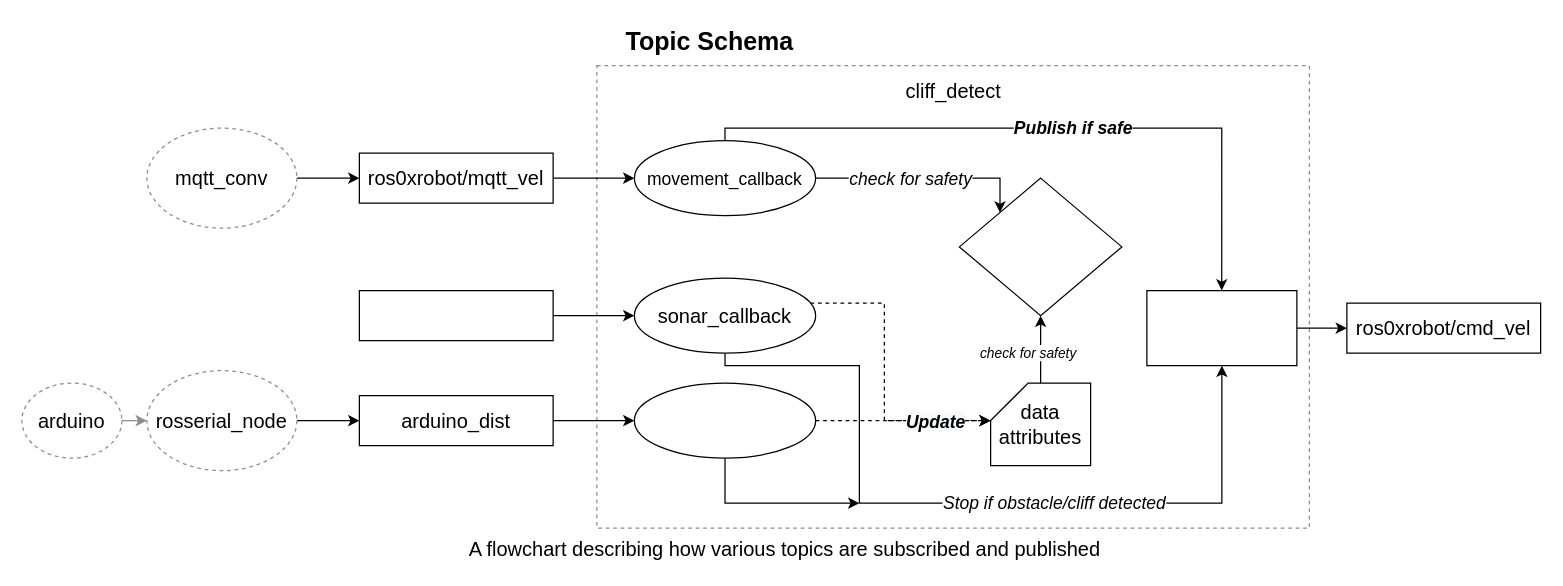
Image size: 1563x586. Some labels were removed from this diagram. Each missing label, with the centre of its shape:
cliff_callback: the point at 724,420
Publisher: the point at 1221,327
ros0xrobot/sonar: the point at 455,315
safety check functions: the point at 1040,246
